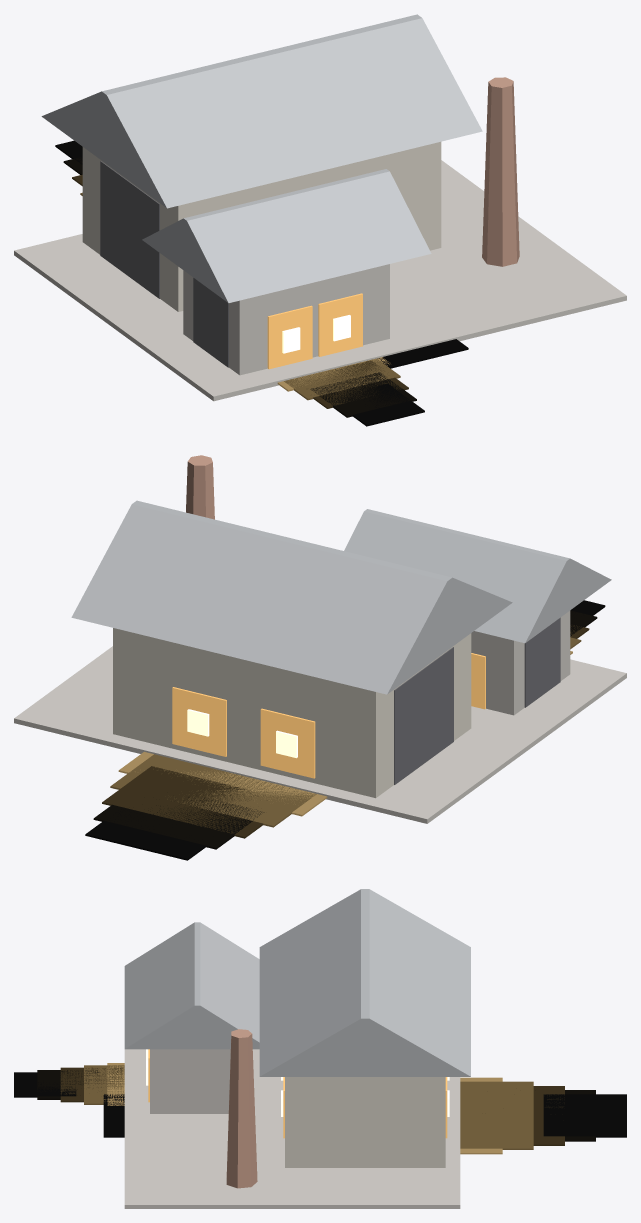
The model's file is plc_abattoir.glb.
3 renders of one model, top to bottom at view 1: azimuth 30°, elevation 25°; view 2: azimuth 150°, elevation 25°; view 3: azimuth 270°, elevation 25°, orthographic. The views are drawn at different scales.
Parts seen in each view (by area): view 1: plc_abattoir; view 2: plc_abattoir; view 3: plc_abattoir.
Boxes of the visible parts, x1,y1,x2,y2 form: plc_abattoir: (14, 14, 626, 426); plc_abattoir: (14, 455, 626, 860); plc_abattoir: (14, 889, 626, 1208).
Size of the model in its own units: 1.87 by 0.8432 by 2.86.
